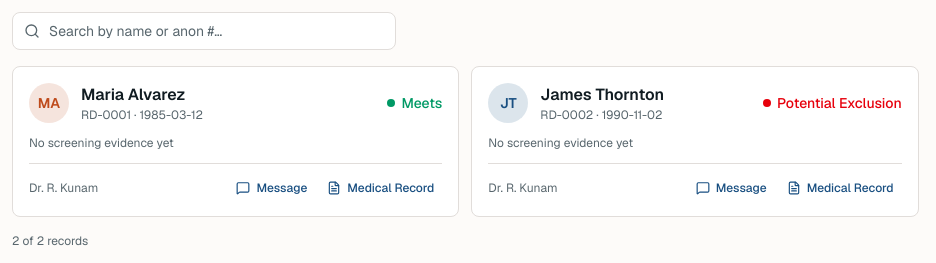
PatientsTable › filters rows by anon id
Type "RD-0001" into the field named "Search patients" at (204,31), box [12,12,396,50]
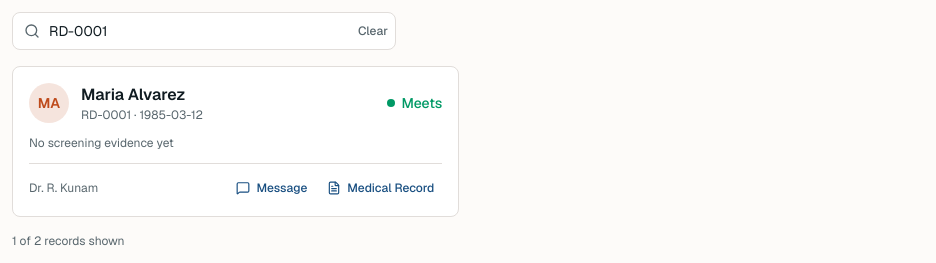
Expected: the text "Maria Alvarez" is shown, [81,83,203,107]
Expected: the text "James Thornton" is gone
